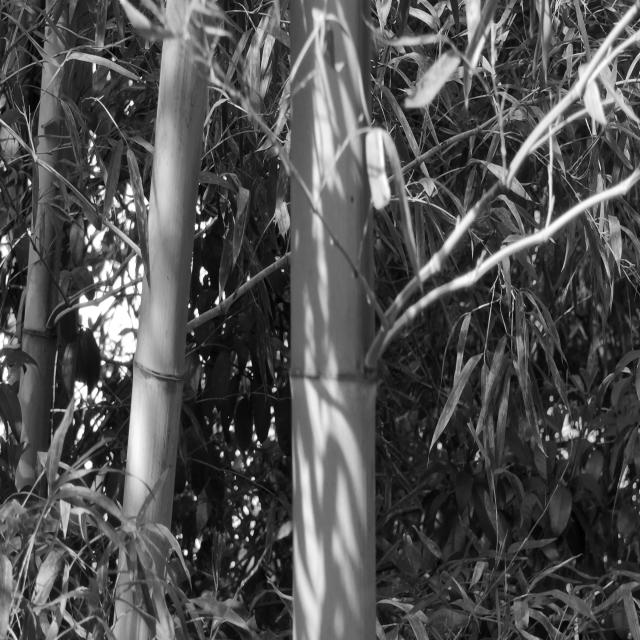Bamboo-shoots: (110, 0, 210, 640)
